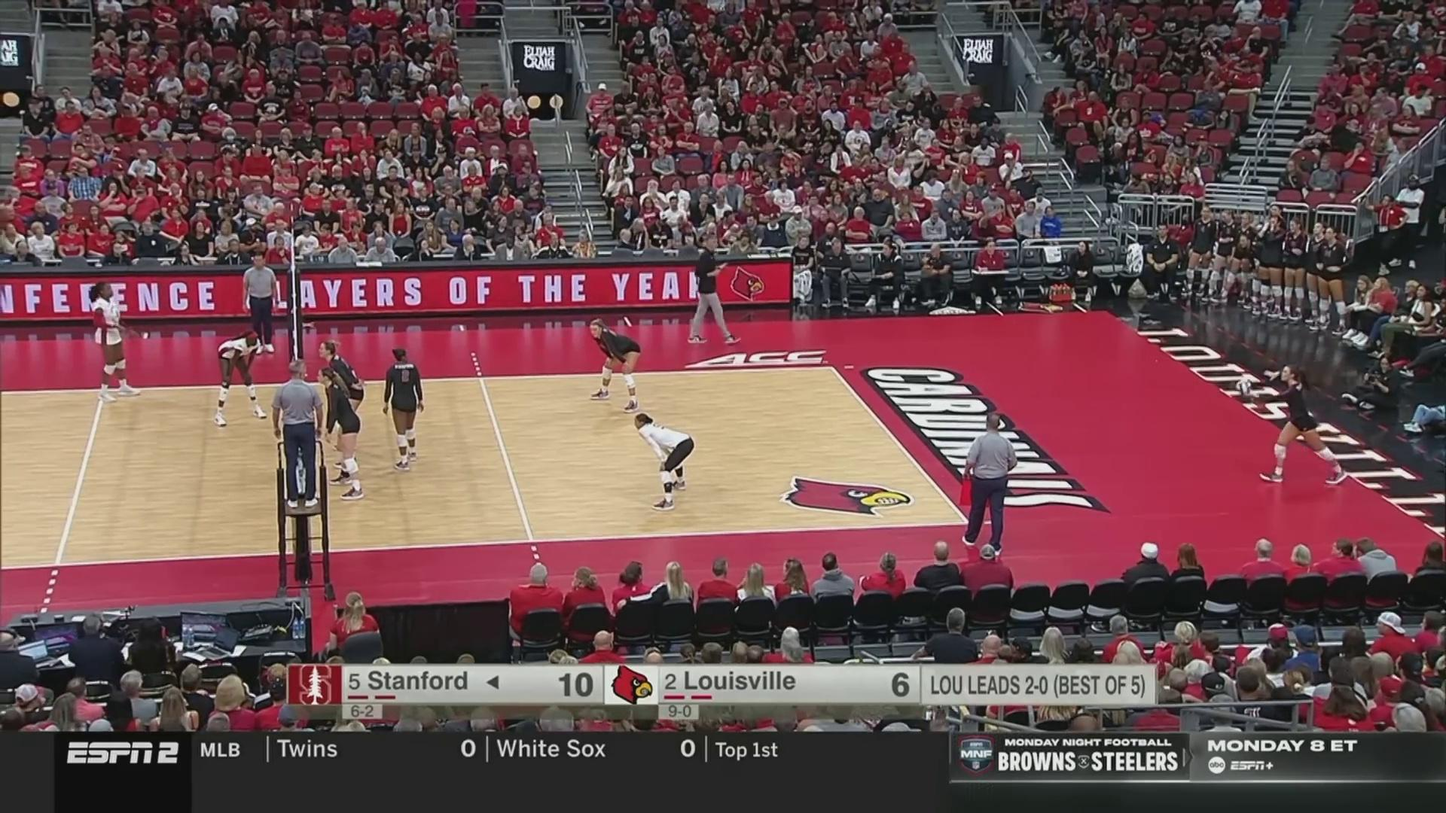player: (1255, 364, 1344, 485), (633, 414, 694, 511), (90, 280, 140, 398), (317, 340, 364, 465), (318, 367, 362, 500), (383, 348, 426, 469), (210, 332, 266, 423), (589, 319, 642, 412)
refree: (961, 413, 1018, 552), (274, 359, 321, 505), (243, 254, 278, 354)
